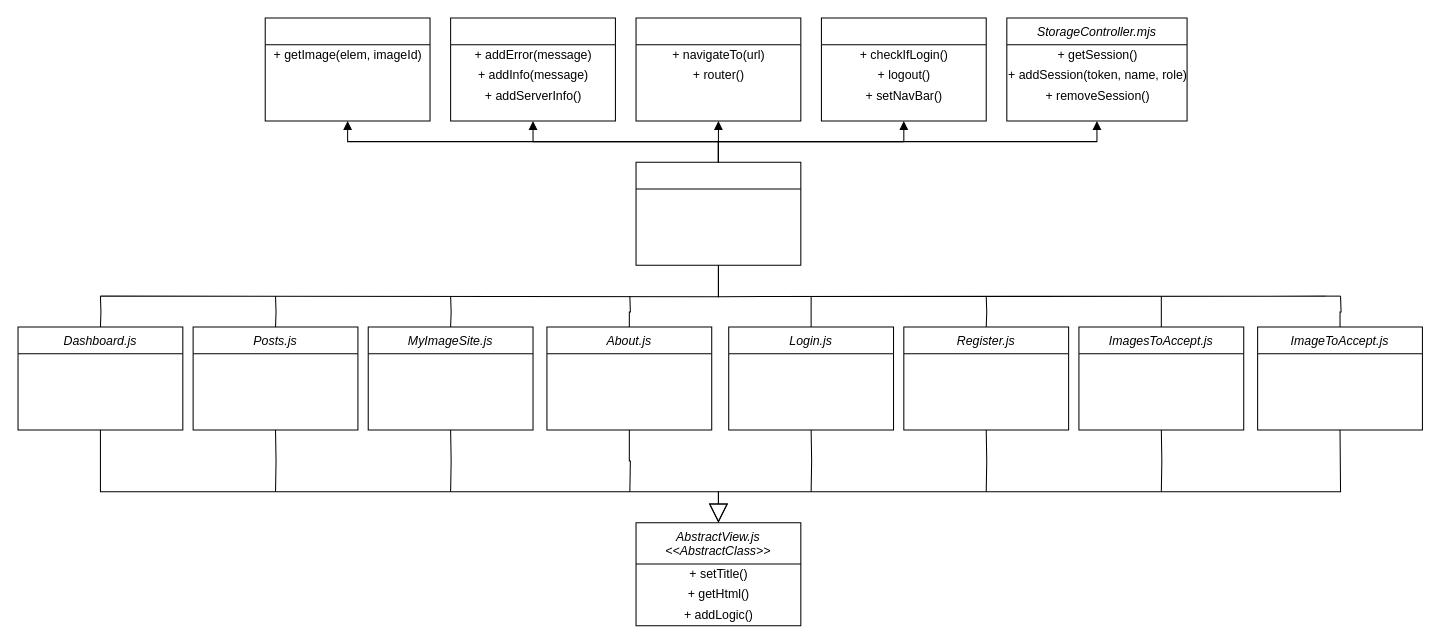
Image size: 1441x644. Some labels were removed from this diagram. Each missing label, with the box of its shape:
ComonAsks.mjs: (264, 17, 430, 121)
ErrorController.mjs: (450, 17, 615, 121)
index.js: (635, 161, 801, 265)
ReloadController.mjs: (635, 17, 801, 121)
SessionController.mjs: (820, 17, 986, 121)
